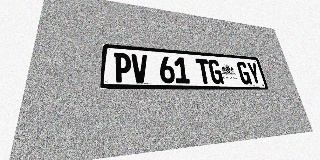1: (173, 57, 190, 84)
6: (159, 56, 176, 83)
G: (208, 59, 224, 84), (236, 61, 252, 84)
P: (114, 52, 131, 83)
T: (195, 58, 212, 84)
V: (131, 54, 148, 83)
Y: (246, 62, 262, 85)
